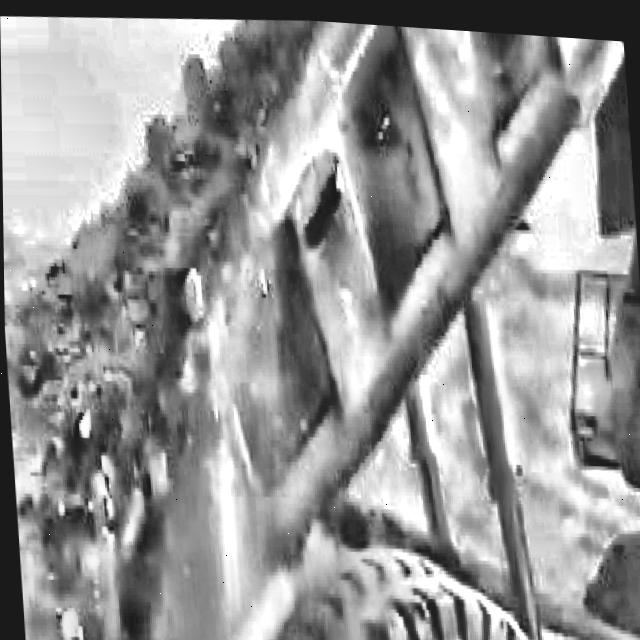dump_truck: (177, 9, 640, 640)
